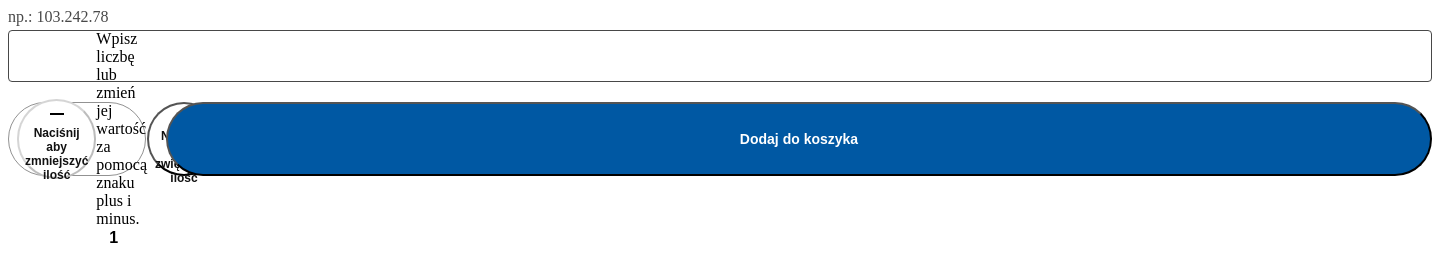
Test: Modal AdditionalInformations variant › should change input value by max value 99
Type "999" into the field labelled "Wpisz liczbę lub zmień jej wartość za pomocą znaku plus i minus". click: (114, 238)
box: left=96, top=228, right=131, bottom=248
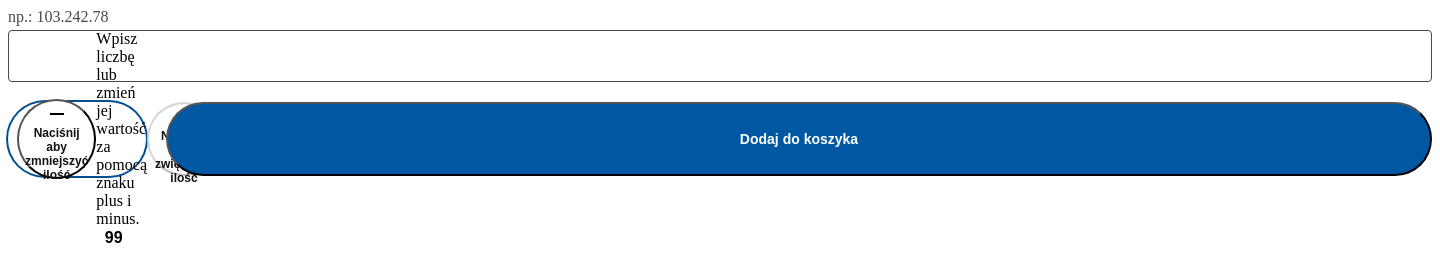
expect the field labelled "Wpisz liczbę lub zmień jej wartość za pomocą znaku plus i minus" does not hold "999": met, box left=96, top=228, right=131, bottom=248
expect the field labelled "Wpisz liczbę lub zmień jej wartość za pomocą znaku plus i minus" holds "99": met, box left=96, top=228, right=131, bottom=248
